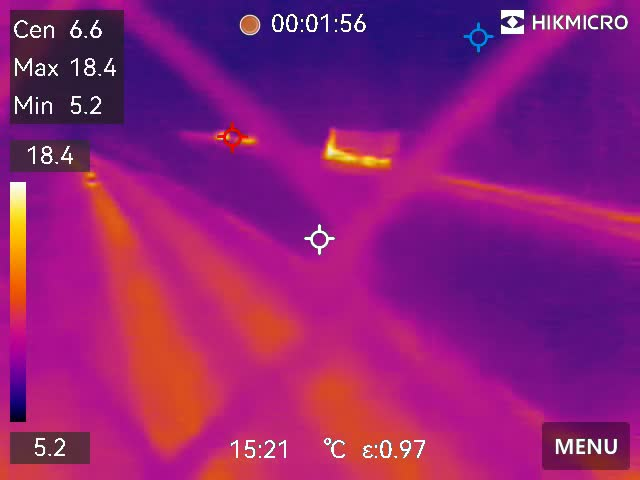heavyTruck: (316, 123, 407, 167)
